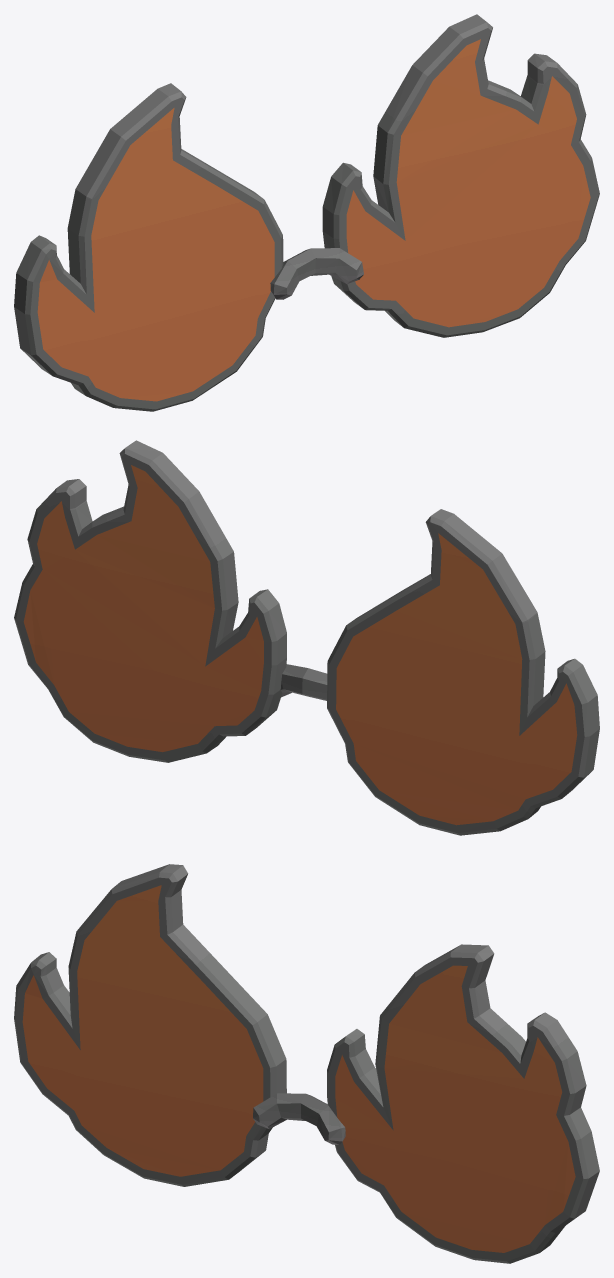
The model's file is CharSkyKid_Horn_FlameSunglasses.glb.
3 views of the same model, one above another, from view 1: azimuth 30°, elevation 25°; view 2: azimuth 150°, elevation 25°; view 3: azimuth 330°, elevation 25° (orthographic).
Parts seen in each view (by area): view 1: CharSkyKid_Horn_FlameSunglasses; view 2: CharSkyKid_Horn_FlameSunglasses; view 3: CharSkyKid_Horn_FlameSunglasses.
Part boxes in pixels (x1,y1,x2,y2): CharSkyKid_Horn_FlameSunglasses: (14, 14, 599, 411); CharSkyKid_Horn_FlameSunglasses: (14, 440, 599, 835); CharSkyKid_Horn_FlameSunglasses: (14, 864, 599, 1263).
Size of the model in its own units: 2.08 by 1.08 by 0.1444.
Materials: 1 (1 with a texture image).
